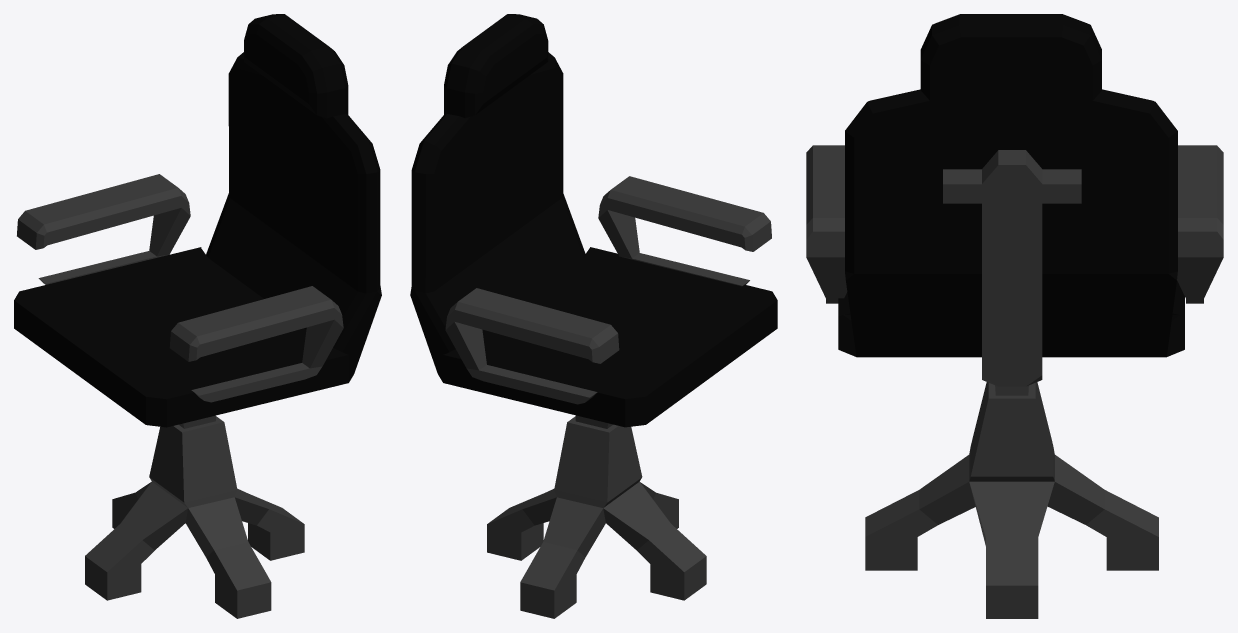
The model's file is ManagerChairBlack.fbx.
3 renders of one model, left to right at view 1: azimuth 30°, elevation 25°; view 2: azimuth 150°, elevation 25°; view 3: azimuth 270°, elevation 25°, orthographic. The views are drawn at different scales.
Visible parts, largest first — view 1: ManagerChairBlack; view 2: ManagerChairBlack; view 3: ManagerChairBlack.
Boxes of the visible parts, <box> form: ManagerChairBlack: <box>14,14,381,618</box>; ManagerChairBlack: <box>410,14,777,618</box>; ManagerChairBlack: <box>806,14,1223,618</box>.
Bounding box in the file's own units: 218 × 411 × 258.
